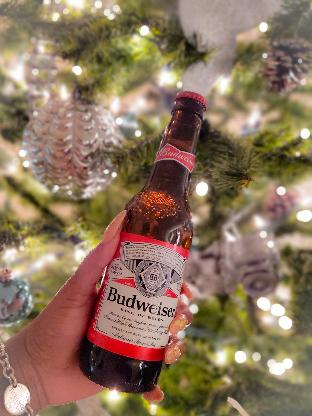Glass Bottle: (78, 92, 208, 394)
